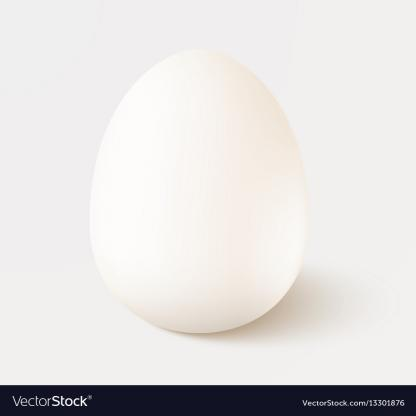egg: (86, 44, 314, 342)
